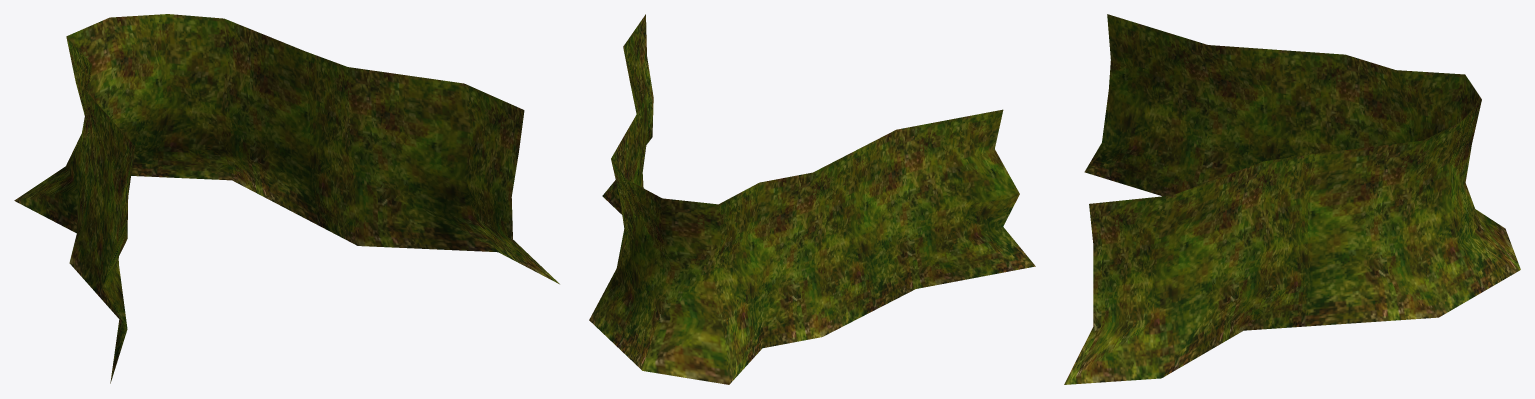
Rendered from TROLLHOLE02_RM_PSURF109.fbx.
The picture shows the model from 3 angles, left to right: view 1: azimuth 30°, elevation 25°; view 2: azimuth 150°, elevation 25°; view 3: azimuth 270°, elevation 25°; orthographic projection. The views are drawn at different scales.
Parts seen in each view (by area): view 1: TROLLHOLE02_RM_PSURF109; view 2: TROLLHOLE02_RM_PSURF109; view 3: TROLLHOLE02_RM_PSURF109.
Part boxes in pixels (box(x1,y1,x2,y2)): TROLLHOLE02_RM_PSURF109: box(14, 14, 559, 383); TROLLHOLE02_RM_PSURF109: box(589, 14, 1035, 384); TROLLHOLE02_RM_PSURF109: box(1064, 14, 1520, 384).
Size of the model in its own units: 80699 by 30000 by 73265.
Materials: 1 (1 with a texture image).
